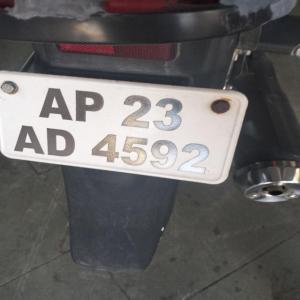Plate: (0, 72, 240, 185)
